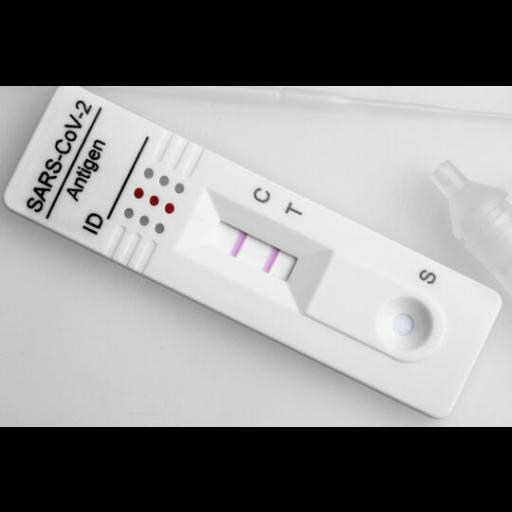Pos: (3, 85, 505, 421)
